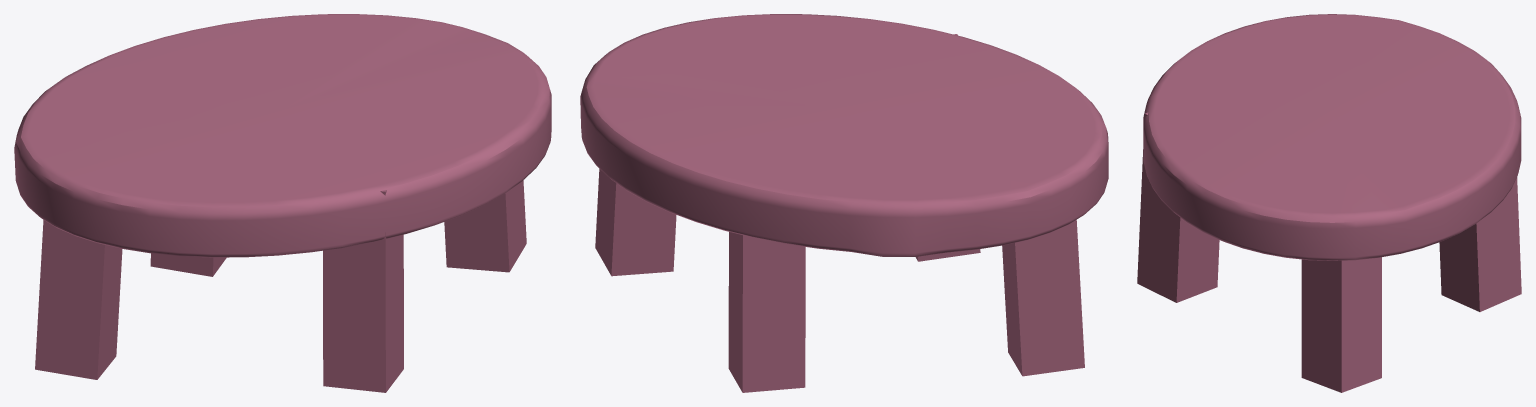
Rendered from comedor.obj.
3 renders of one model, left to right at view 1: azimuth 30°, elevation 25°; view 2: azimuth 150°, elevation 25°; view 3: azimuth 270°, elevation 25°, orthographic. The views are drawn at different scales.
Visible parts, largest first — view 1: polySurface38; view 2: polySurface38; view 3: polySurface38.
Boxes of the visible parts, x1=… form: polySurface38: x1=14, y1=14, x2=551, y2=392; polySurface38: x1=580, y1=14, x2=1108, y2=392; polySurface38: x1=1137, y1=14, x2=1521, y2=392.
Size of the model in its own units: 2.49 by 1.02 by 1.93.
